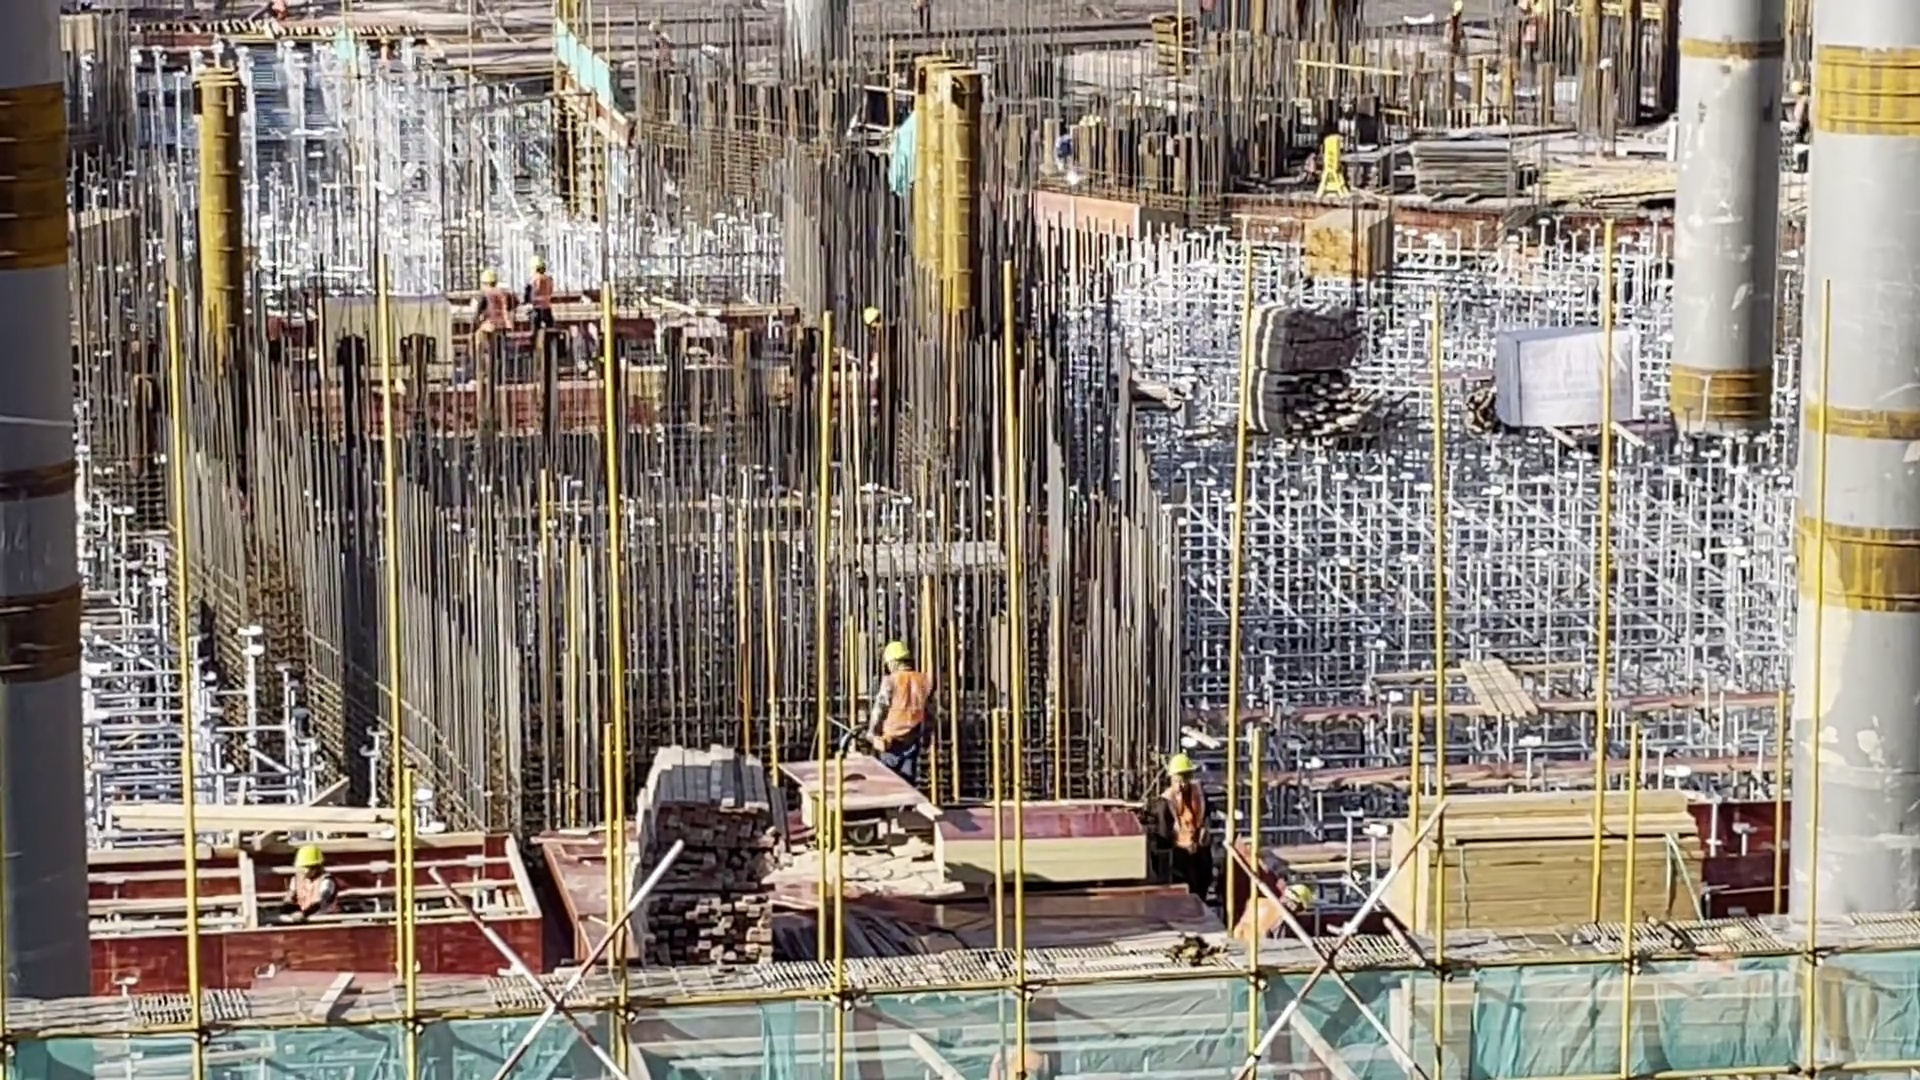board: (914, 783, 1155, 893)
helmet: (1159, 731, 1203, 779), (285, 835, 329, 867), (878, 635, 906, 661), (478, 263, 501, 287)
person: (1132, 737, 1226, 894), (856, 617, 928, 768), (1245, 861, 1325, 961), (259, 839, 347, 920), (464, 252, 514, 363), (521, 260, 571, 358)
vest: (1160, 776, 1207, 842), (880, 671, 929, 732), (286, 874, 334, 916), (529, 272, 554, 320), (481, 290, 508, 332)
wood: (1373, 775, 1712, 937), (623, 738, 789, 982)
